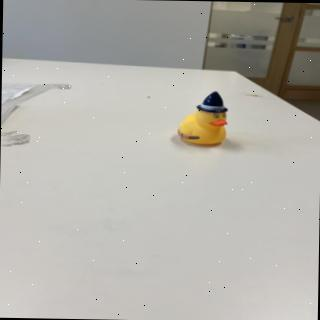duck_specialty: (176, 89, 232, 147)
